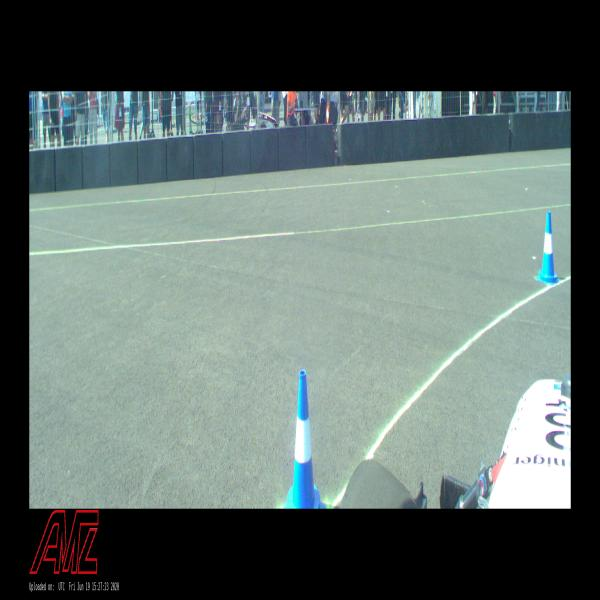blue_cone: (284, 370, 327, 508), (536, 211, 560, 286)
